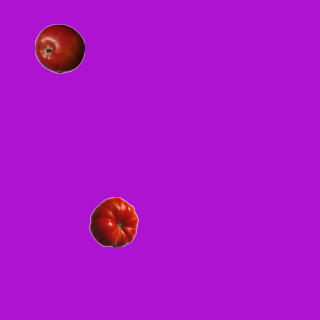Apple Braeburn: (34, 23, 84, 73)
Tomato 3: (88, 196, 138, 246)
